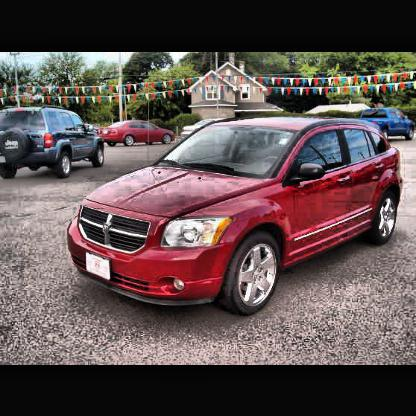Dodge Caliber Wagon 2007: (66, 109, 407, 321)
